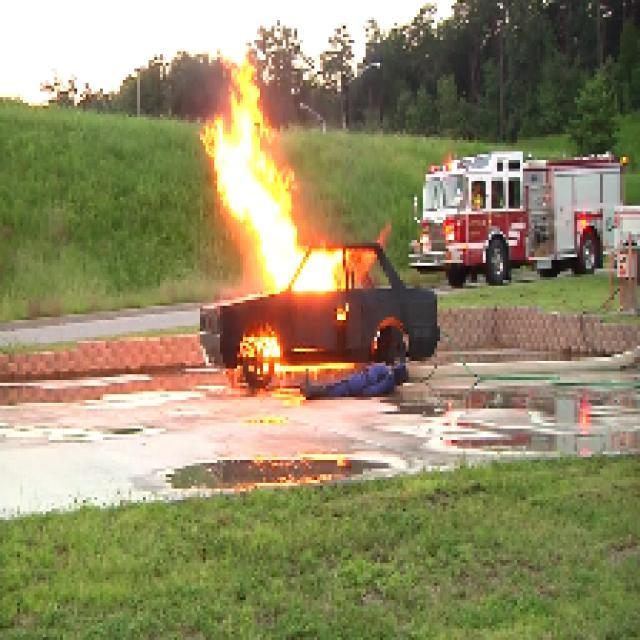Fire: (208, 66, 351, 300)
